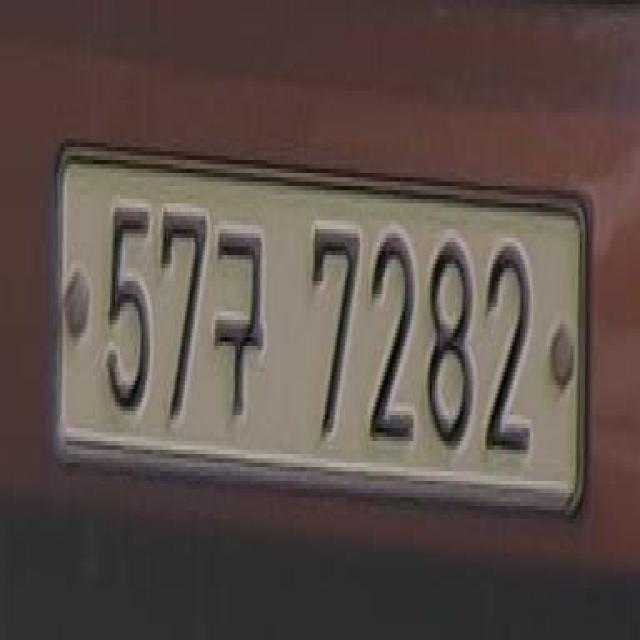2: (484, 220, 536, 460), (367, 208, 417, 456)
5: (105, 193, 151, 417)
7: (306, 205, 362, 442), (161, 197, 209, 428)
8: (422, 215, 478, 452)
gu: (215, 202, 269, 430)
license_plate: (44, 118, 596, 540)
